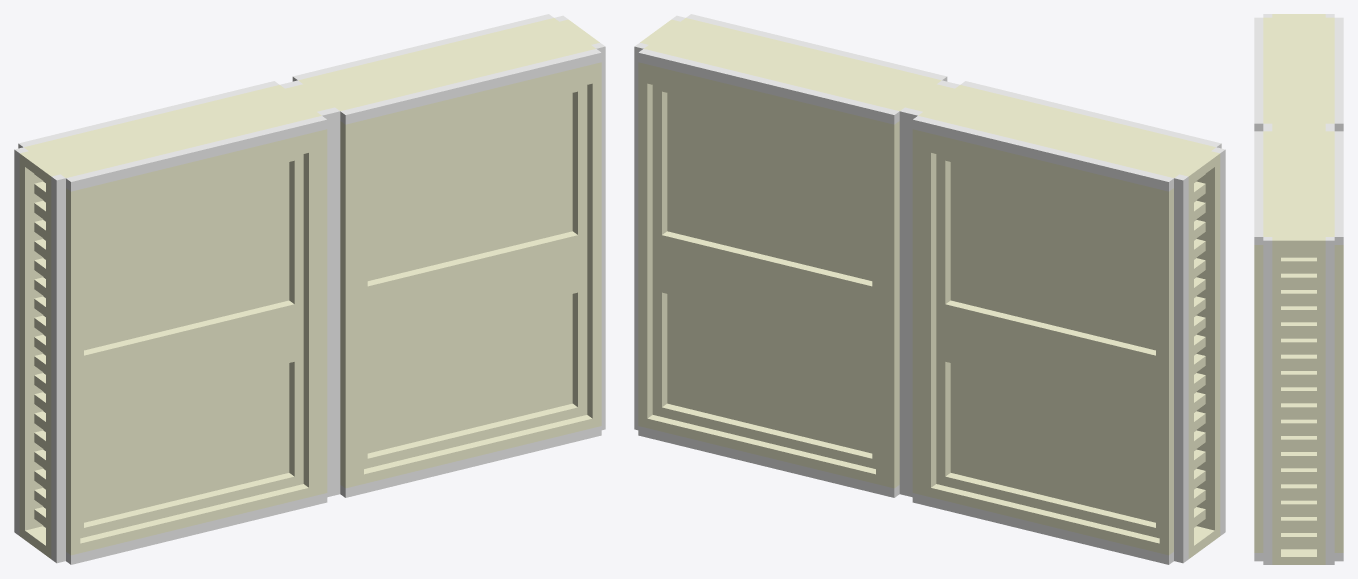
File: Med Bay Wall 4.obj
3 renders of one model, left to right at view 1: azimuth 30°, elevation 25°; view 2: azimuth 150°, elevation 25°; view 3: azimuth 270°, elevation 25°, orthographic. The views are drawn at different scales.
Size of the model in its own units: 60 by 40 by 10.
1 material, 1 textured.
